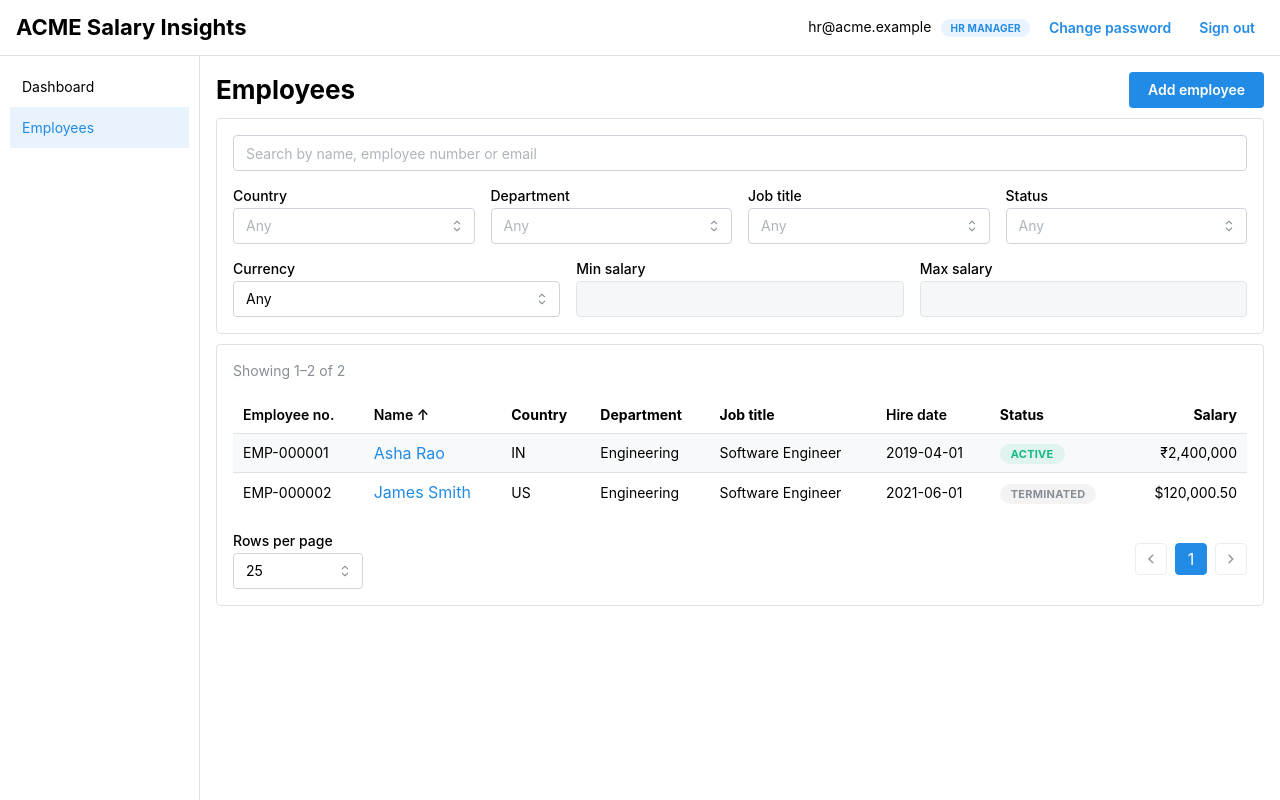
Scenario: Employee pages › from the directory › offers "Add employee"
Click the link "Add employee": [1196, 90] box [1129,72,1264,108]
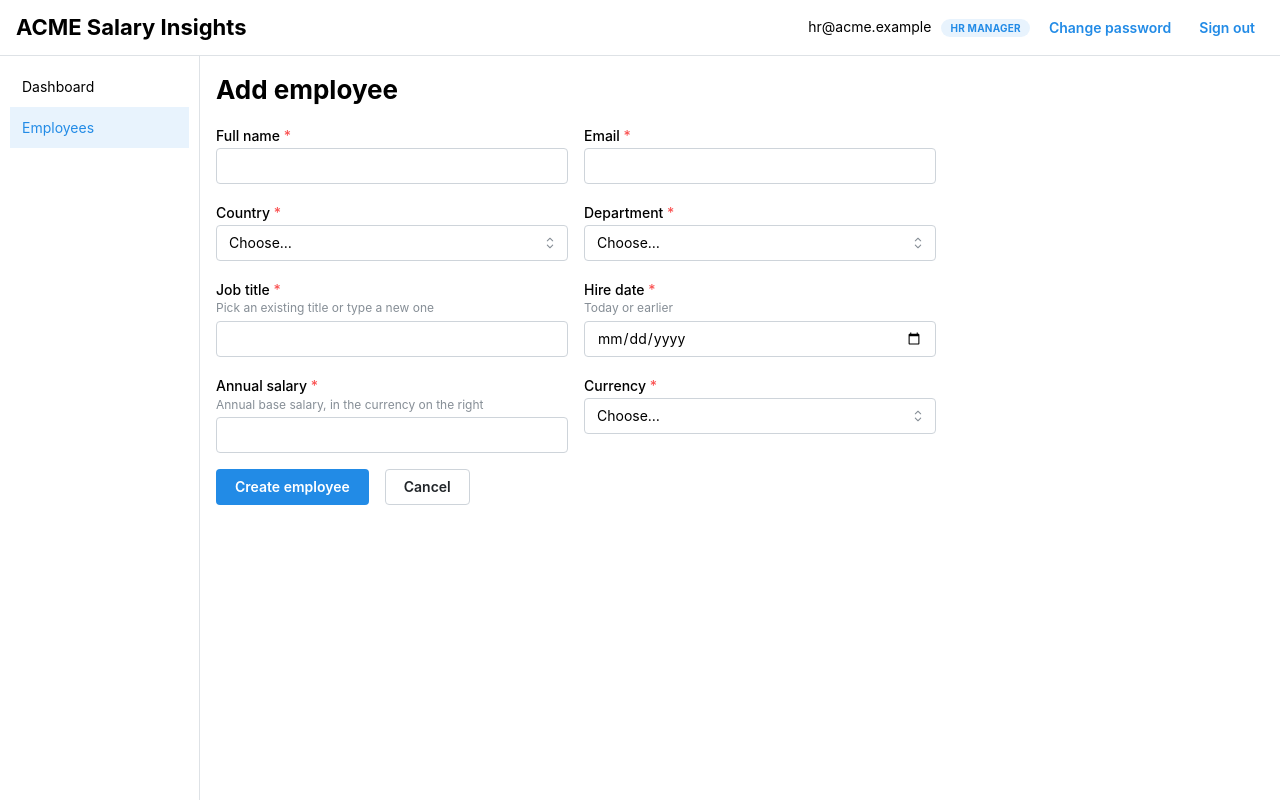
Expected: the heading "Add employee" is shown, [216,74,398,105]
